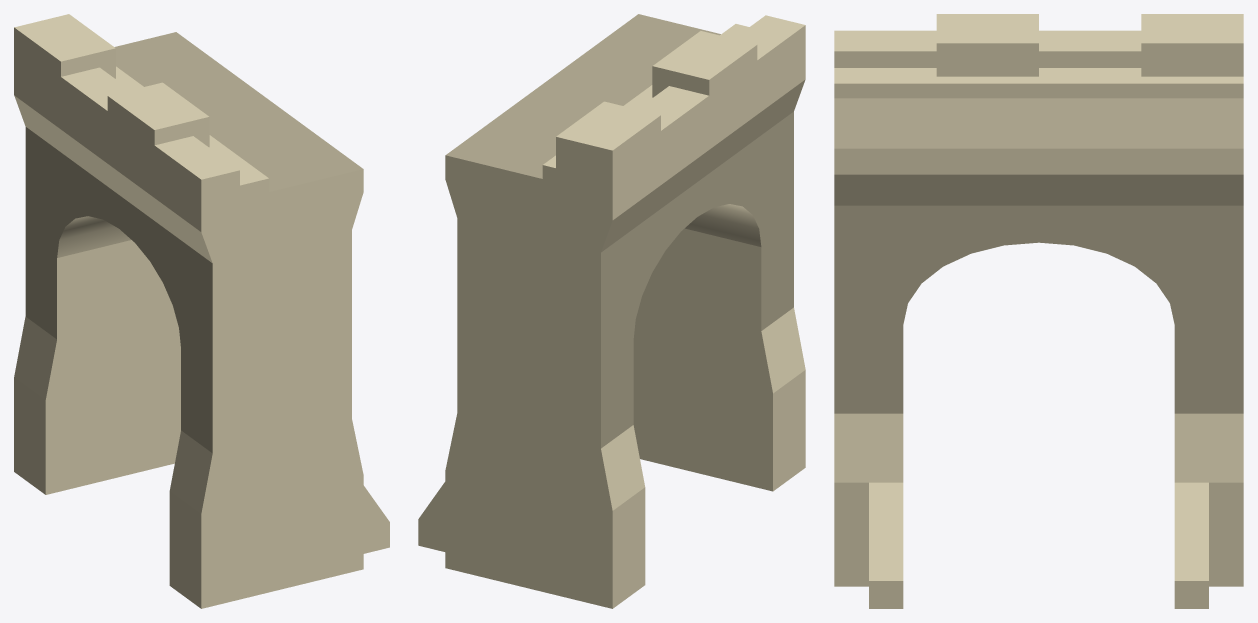
File: wallNarrowGate.obj
3 views of the same model, side by side, from view 1: azimuth 30°, elevation 25°; view 2: azimuth 150°, elevation 25°; view 3: azimuth 270°, elevation 25° (orthographic). The views are drawn at different scales.
Visible parts, largest first — view 1: wallNarrowGate; view 2: wallNarrowGate; view 3: wallNarrowGate.
Part boxes in pixels (x1=…): wallNarrowGate: x1=14, y1=14, x2=389, y2=608; wallNarrowGate: x1=418, y1=14, x2=805, y2=608; wallNarrowGate: x1=834, y1=14, x2=1243, y2=608.
Bounding box in the file's own units: 6.3 × 13.1 × 10.
